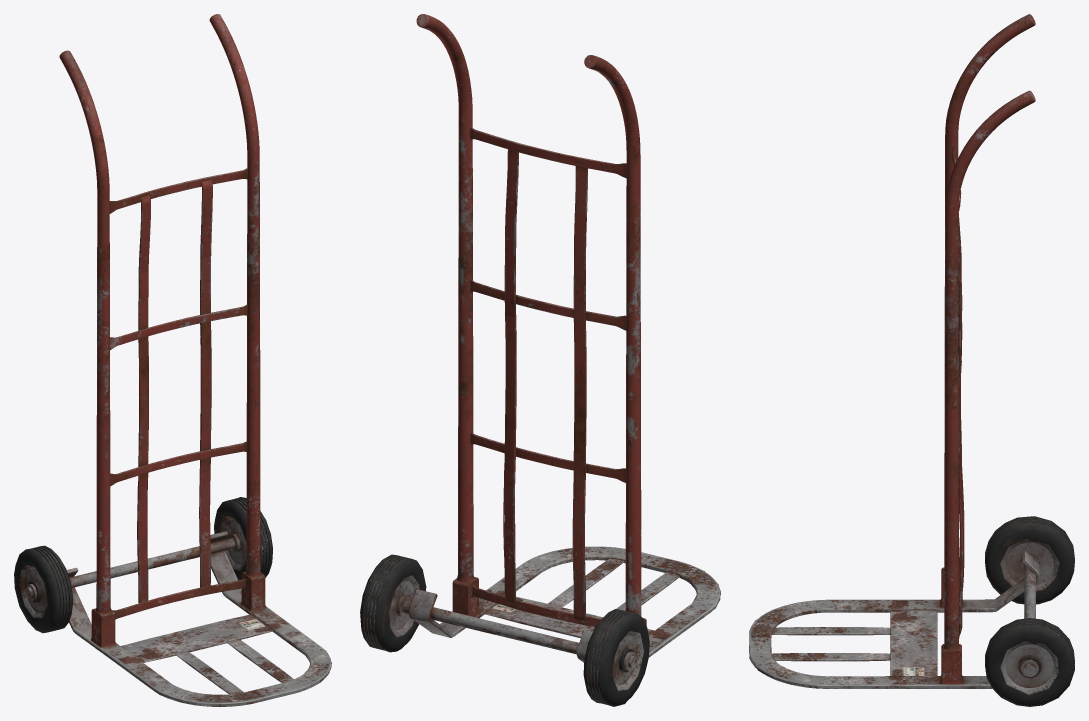
The model's file is hand_truck.glb.
The picture shows the model from 3 angles, left to right: view 1: azimuth 30°, elevation 25°; view 2: azimuth 150°, elevation 25°; view 3: azimuth 270°, elevation 25°; orthographic projection. The views are drawn at different scales.
Visible parts, largest first — view 1: hand_truck; view 2: hand_truck; view 3: hand_truck.
Boxes of the visible parts, bbox=[...] form: hand_truck: bbox=[14, 14, 331, 706]; hand_truck: bbox=[360, 14, 720, 706]; hand_truck: bbox=[749, 14, 1074, 706].
Size of the model in its own units: 0.5933 by 1.4 by 0.6924.
Materials: 1 (1 with a texture image).
